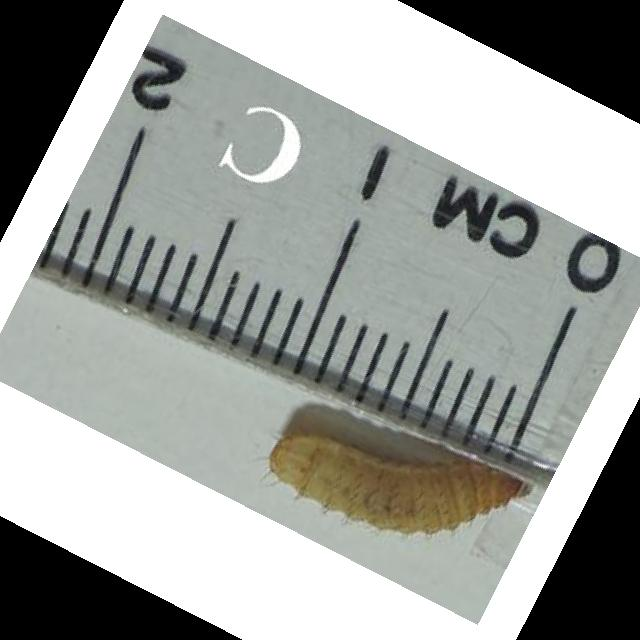Maggot: (266, 431, 539, 533)
